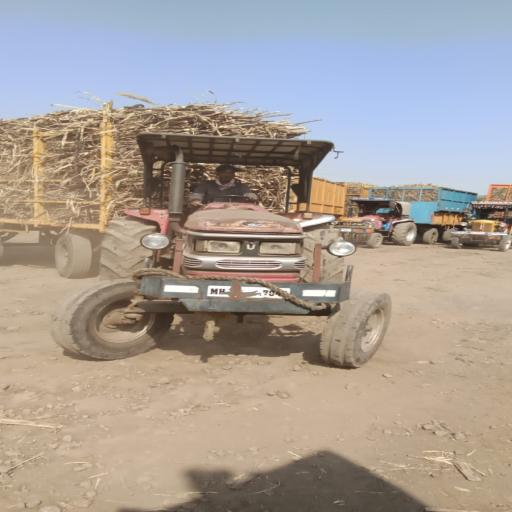number_plate: (203, 280, 295, 302)
